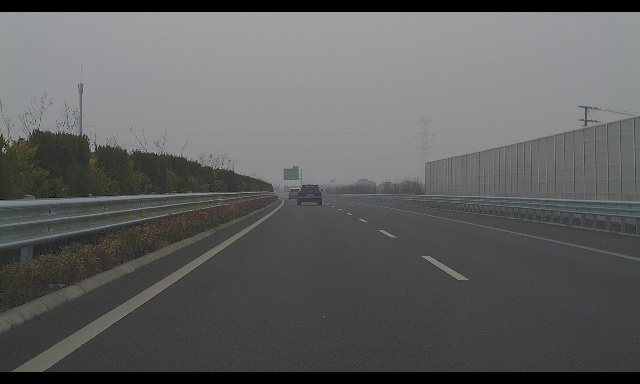car: (297, 183, 323, 205), (287, 188, 301, 200)
